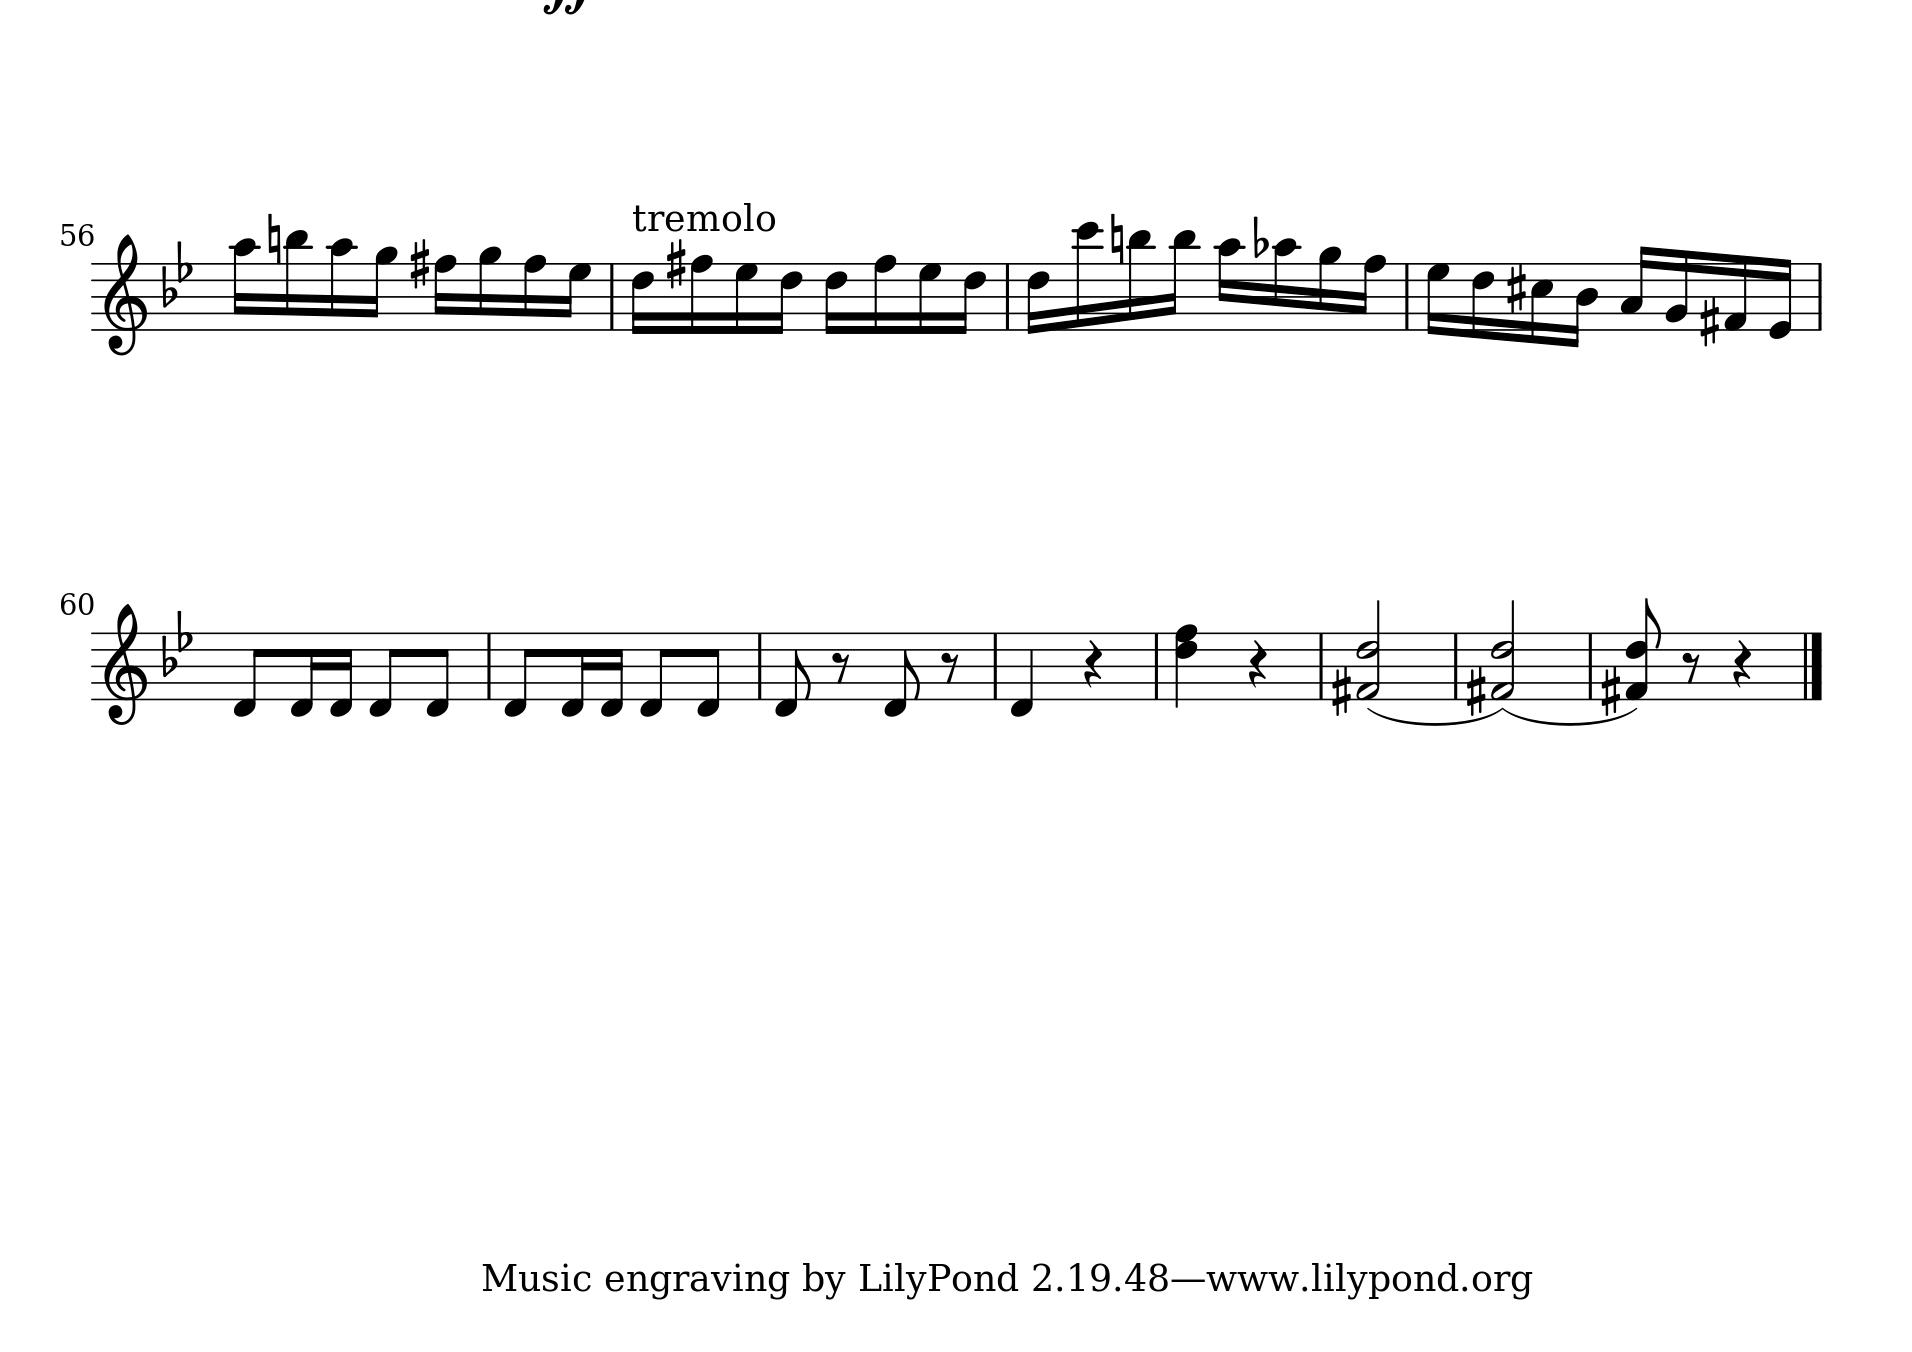0: (78, 588, 95, 617)
16_-1: (559, 631, 591, 718), (290, 631, 320, 718), (328, 631, 355, 718), (598, 631, 625, 717)
16_0: (1766, 256, 1794, 341)
16_1: (1723, 252, 1750, 334)
16_10: (1214, 237, 1243, 334), (230, 237, 257, 334), (328, 236, 355, 332), (1271, 236, 1299, 332)
16_11: (1163, 227, 1198, 334), (282, 225, 310, 334), (1126, 228, 1153, 334)
16_12: (1072, 219, 1102, 332)
16_2: (1663, 247, 1690, 332)
16_3: (1619, 244, 1652, 331)
16_4: (1568, 260, 1599, 348)
16_5: (1529, 260, 1554, 345)
16_6: (771, 260, 805, 335), (955, 260, 987, 337), (629, 260, 655, 337), (1470, 260, 1495, 341), (824, 260, 848, 337), (1025, 260, 1050, 335)
16_7: (560, 260, 592, 331), (733, 260, 759, 337), (916, 260, 942, 337), (1425, 260, 1450, 338)
16_8: (1355, 252, 1385, 331), (521, 253, 547, 332), (689, 253, 714, 335), (872, 253, 897, 335), (432, 255, 456, 332)
16_9: (366, 244, 396, 334), (475, 244, 500, 332), (1317, 244, 1341, 332)
2_1_6: (1488, 598, 1517, 702), (1355, 601, 1382, 702)
4_-1: (1008, 631, 1036, 718)
4_6_8: (1173, 623, 1200, 711)
5: (59, 219, 78, 247)
6: (59, 590, 78, 617), (78, 221, 95, 247)
8_-1: (772, 631, 812, 718), (882, 631, 922, 718), (500, 631, 535, 718), (231, 631, 265, 718), (638, 631, 671, 717), (367, 631, 399, 717), (424, 631, 452, 718), (695, 631, 723, 718)
8_1_6: (1624, 598, 1663, 704)
B_F: (159, 606, 195, 676), (161, 237, 195, 307)
Final_barline: (1799, 631, 1826, 699)
Flat: (1249, 214, 1268, 260)
Gclef: (101, 601, 148, 726), (102, 233, 148, 356)
Natural: (266, 212, 282, 269), (1109, 212, 1125, 268)
Rests4: (1081, 639, 1104, 691), (1246, 638, 1268, 691), (1731, 638, 1753, 689)
Rests8: (939, 650, 963, 685), (829, 650, 851, 685), (1679, 650, 1701, 683)
Sharp: (1505, 262, 1529, 315), (1328, 664, 1352, 717), (408, 237, 430, 291), (1698, 296, 1720, 347), (1464, 664, 1486, 716), (1599, 664, 1621, 716), (666, 237, 686, 290)
Single_barline: (1148, 631, 1166, 699), (603, 263, 620, 331), (999, 263, 1017, 331), (750, 632, 768, 699), (480, 634, 497, 699), (1581, 634, 1599, 698), (1399, 262, 1415, 331), (1813, 262, 1829, 331), (987, 632, 1004, 699), (1314, 632, 1328, 699), (1448, 634, 1463, 698)
Slur: (1501, 705, 1624, 726)
